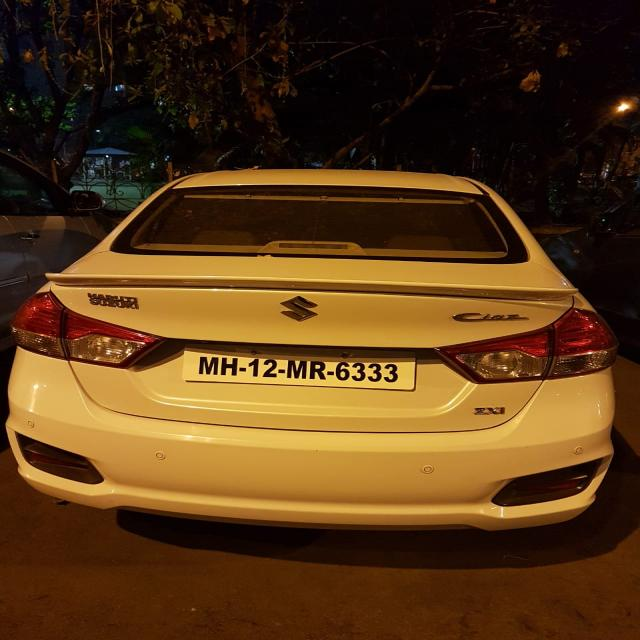Number-Plate: (190, 343, 413, 391)
